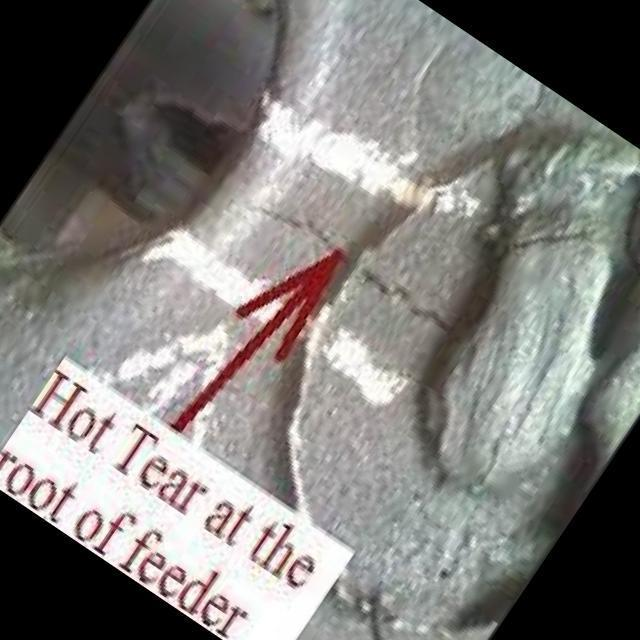defect: (250, 203, 469, 346)
